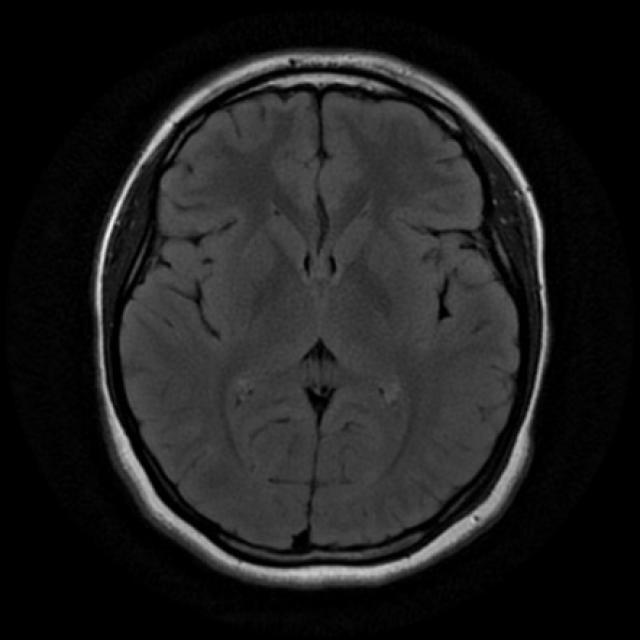No_Tumor: (94, 51, 549, 588)
